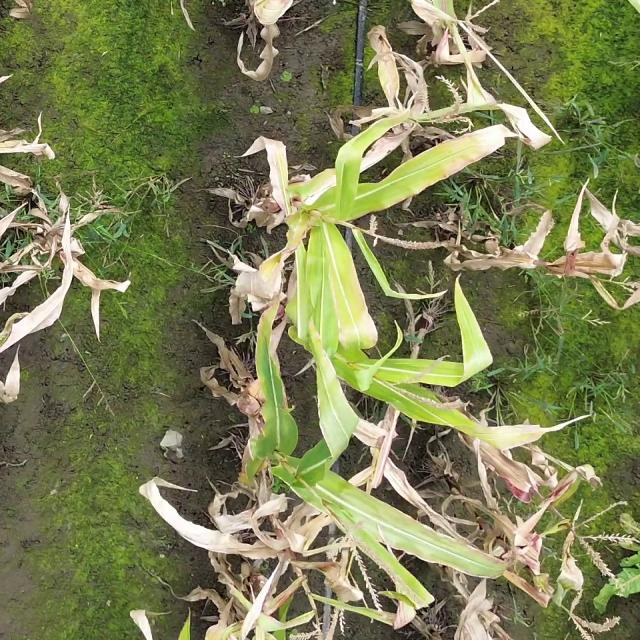northern-leaf-blight: (342, 514, 499, 578), (318, 268, 384, 356), (433, 126, 523, 188), (250, 313, 298, 420)
